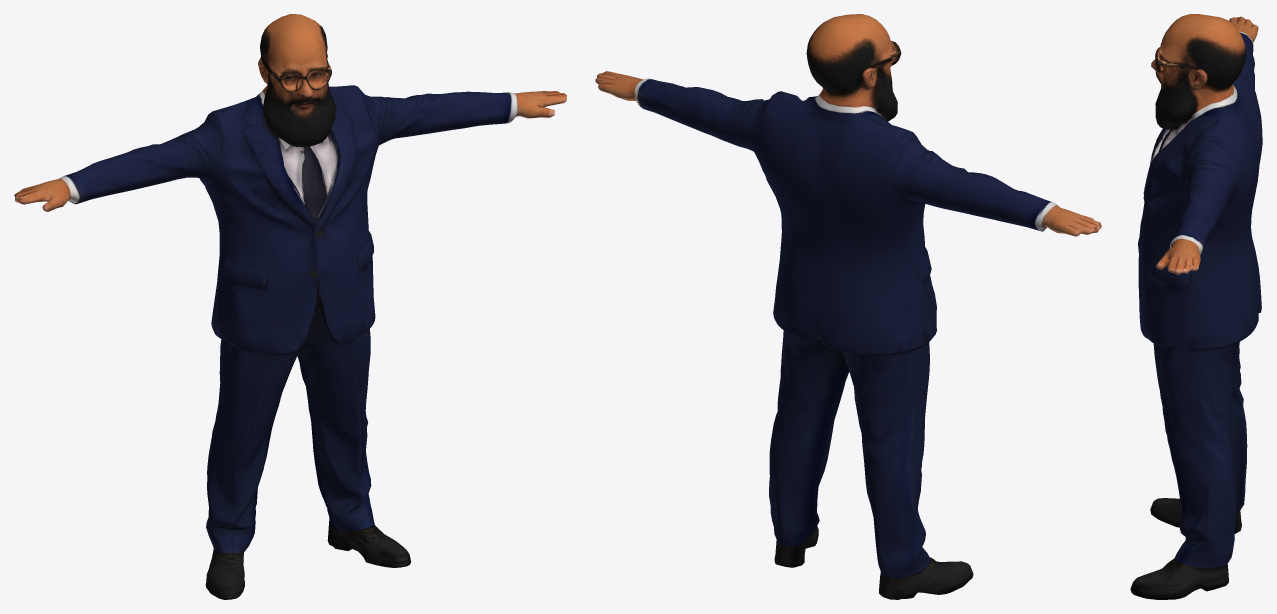
File: eneias.glb
3 renders of one model, left to right at view 1: azimuth 30°, elevation 25°; view 2: azimuth 150°, elevation 25°; view 3: azimuth 270°, elevation 25°, orthographic. The views are drawn at different scales.
Parts seen in each view (by area): view 1: tripo_node_960e36ee-eaa2-4549-a48a-f23d739c63e8_0; view 2: tripo_node_960e36ee-eaa2-4549-a48a-f23d739c63e8_0; view 3: tripo_node_960e36ee-eaa2-4549-a48a-f23d739c63e8_0.
Boxes of the visible parts, bbox=[...] form: tripo_node_960e36ee-eaa2-4549-a48a-f23d739c63e8_0: bbox=[14, 14, 566, 599]; tripo_node_960e36ee-eaa2-4549-a48a-f23d739c63e8_0: bbox=[595, 14, 1101, 599]; tripo_node_960e36ee-eaa2-4549-a48a-f23d739c63e8_0: bbox=[1130, 14, 1262, 599].
Size of the model in its own units: 1.79 by 1.78 by 0.3932.
1 material, 1 textured.
